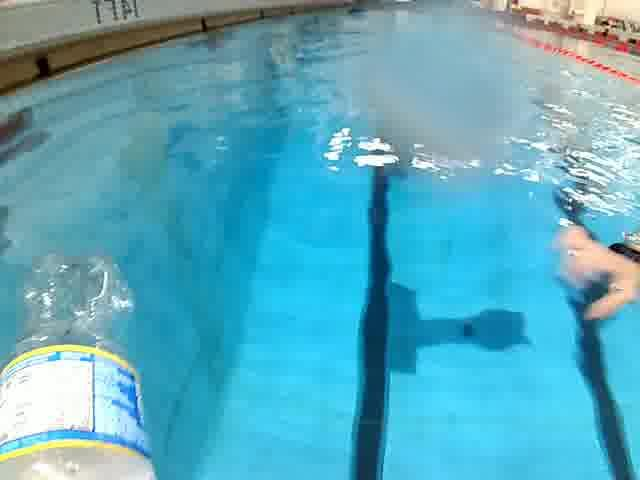Bottle: (0, 252, 158, 480)
